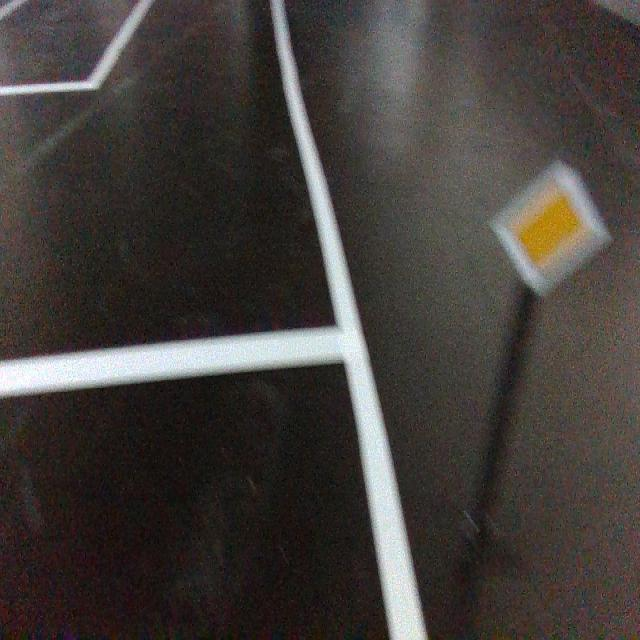priority-sign: (488, 158, 612, 299)
